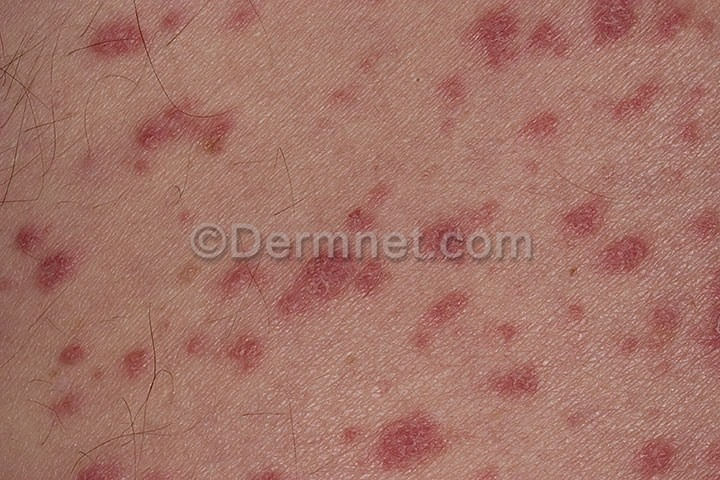Psoriasis: (450, 8, 706, 463), (228, 227, 595, 474), (7, 216, 220, 454), (72, 11, 328, 206)
